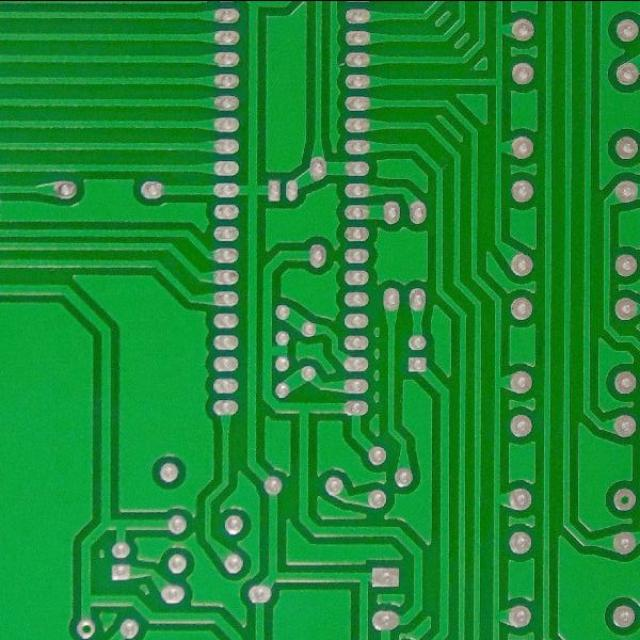Missing_Hole: (610, 484, 638, 514), (73, 616, 98, 640)
